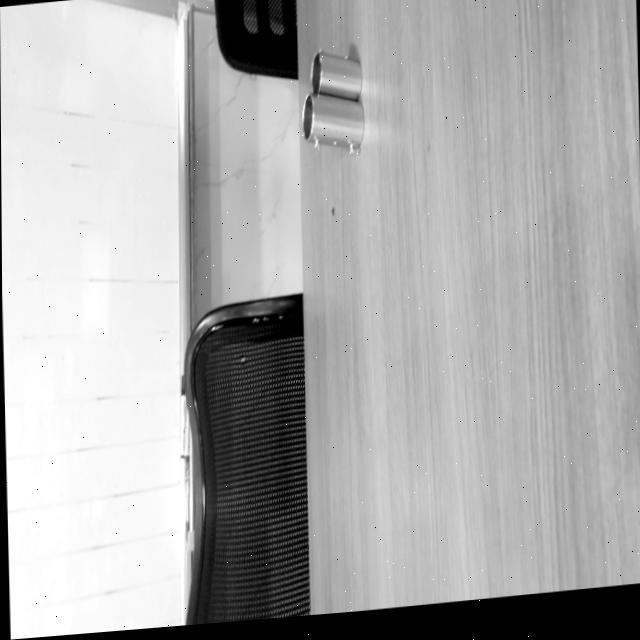Co_Lon: (296, 91, 369, 153)
Co_Nho: (307, 47, 366, 101)
